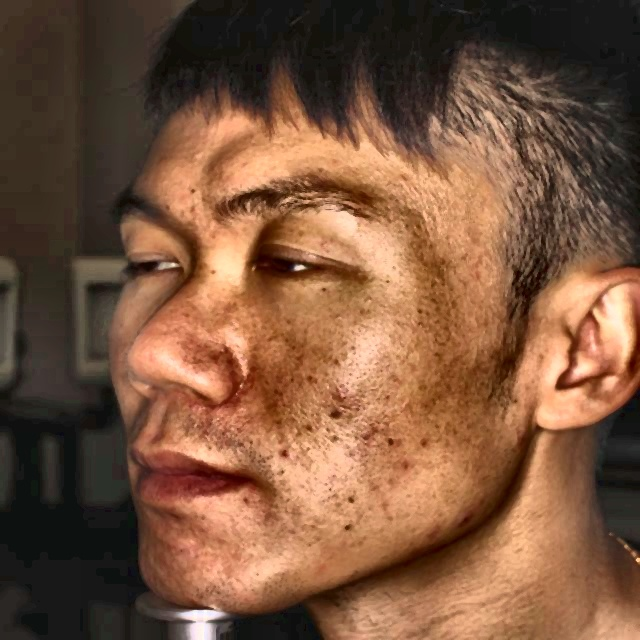comedone: (453, 513, 484, 532)
